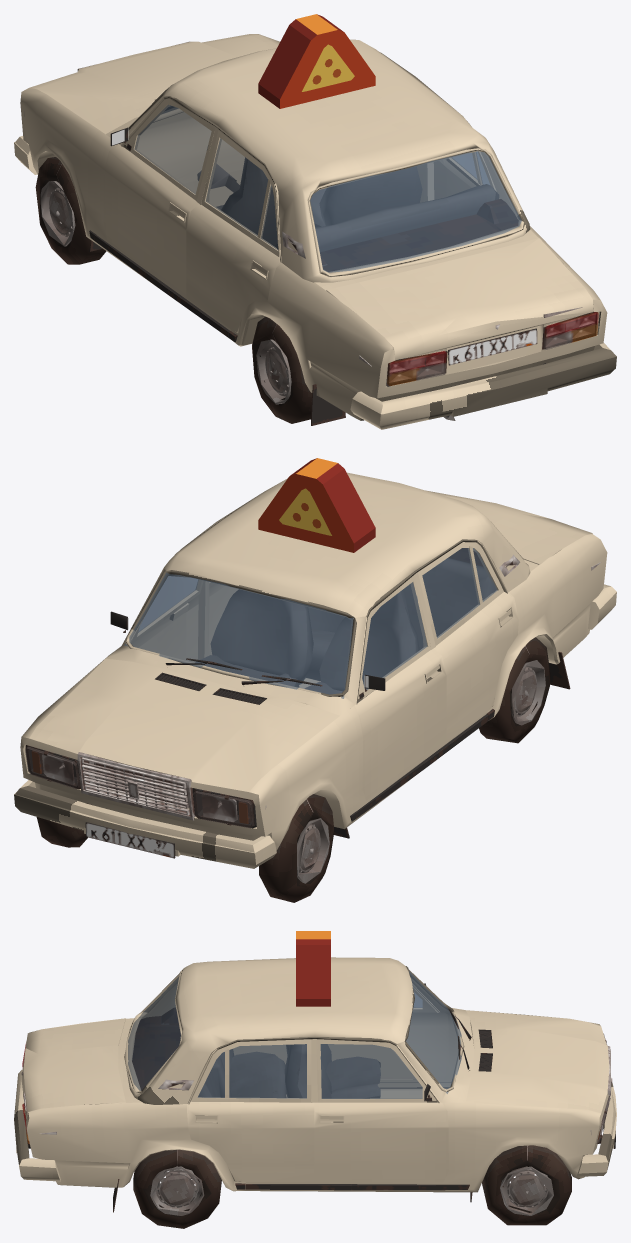
The model's file is semerka.glb.
3 views of the same model, one above another, from view 1: azimuth 30°, elevation 25°; view 2: azimuth 150°, elevation 25°; view 3: azimuth 270°, elevation 25° (orthographic). The views are drawn at different scales.
Visible parts, largest first — view 1: Car_CarBody_0, winB, Car_Interior_0, winL, Car_Details_0, PizzaRoofLight, wheelLB, wheelLF, Car_Details_Transparent_0; view 2: Car_CarBody_0, Car_Interior_0, winF, Car_Details_0, winL, PizzaRoofLight, wheelLF, wheelLB, Car_Details_Transparent_0, winR, wheelRF; view 3: Car_CarBody_0, winR, Car_Interior_0, wheelRF, wheelRB, winF, winB, Car_Details_0, PizzaRoofLight.
Part boxes in pixels (x1,y1,x2,y2): Car_CarBody_0: (14,34,616,429); winB: (310,151,521,272); Car_Interior_0: (217,157,518,271); winL: (134,105,278,249); Car_Details_0: (24,41,597,425); PizzaRoofLight: (258,14,375,108); wheelLB: (252,316,312,423); wheelLF: (35,157,106,264); Car_Details_Transparent_0: (387,312,598,385); Car_CarBody_0: (14,472,616,868); Car_Interior_0: (195,548,495,702); winF: (124,572,353,698); Car_Details_0: (25,554,600,858); winL: (362,548,497,689); PizzaRoofLight: (258,458,375,552); wheelLF: (259,794,334,902); wheelLB: (479,637,550,743); Car_Details_Transparent_0: (25,746,254,828); winR: (138,576,198,632); wheelRF: (36,817,87,847); Car_CarBody_0: (14,957,616,1192); winR: (198,1044,422,1098); Car_Interior_0: (132,1008,380,1098); wheelRF: (482,1145,571,1225); wheelRB: (133,1149,221,1228); winF: (406,971,461,1093); winB: (128,976,180,1090); Car_Details_0: (21,983,615,1212); PizzaRoofLight: (296,931,330,1006).
Size of the model in its own units: 2.12 by 2.25 by 4.99.
Materials: 7 (5 with a texture image).
